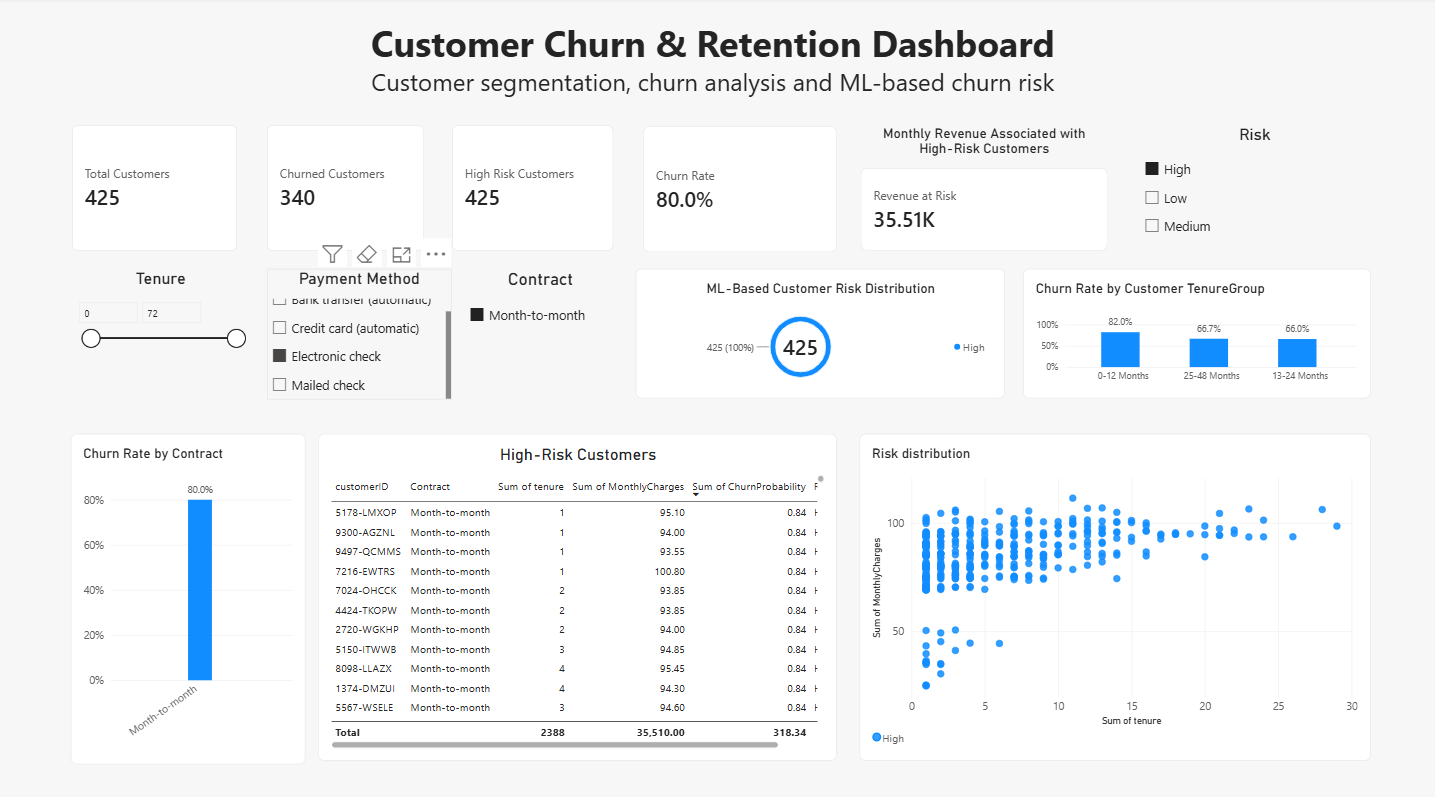

The dashboard page shown, as its layout file describes it:
{"tool":"powerbi","page":{"name":"Customer Churn Dashboard","canvas":[1920,1080],"ordinal":0},"visuals":[{"type":"textbox","box":[10,0,280,280],"z":0},{"type":"textbox","box":[10.9,30.8,1885.7,124.9],"z":1},{"type":"cardVisual","fields":{"Data":["customers.Total Customers"]},"box":[99.5,173.7,220.8,168.3],"z":2},{"type":"cardVisual","fields":{"Data":["customers.Churned Customers"]},"box":[360.1,173.7,209.9,168.3],"z":3},{"type":"cardVisual","fields":{"Data":["customers.High Risk Customers"]},"box":[606.2,173.7,215.3,168.3],"z":4},{"type":"cardVisual","fields":{"Data":["customers.Churn Rate"]},"box":[861.4,175.5,258.8,168.3],"z":5},{"type":"cardVisual","title":"Monthly Revenue Associated with High-Risk Customers","fields":{"Data":["customers.Revenue at Risk"]},"box":[1150.9,173.7,329.4,168.3],"z":6},{"type":"columnChart","title":"Churn Rate by Contract","fields":{"Category":["customers.Contract"],"Y":["customers.Churn Rate"]},"box":[98.8,584.6,312.9,440.5],"z":7},{"type":"columnChart","title":"Churn Rate by Customer TenureGroup","fields":{"Category":["customers.TenureGroup"],"Y":["customers.Churn Rate"]},"box":[1368.1,365.6,463.1,172.9],"z":8},{"type":"donutChart","title":"ML-Based Customer Risk Distribution","fields":{"Category":["customers.RiskLevel"],"Y":["customers.Total Customers"]},"box":[852.4,365.6,491.9,172.9],"z":9},{"type":"slicer","title":"Contract","fields":{"Values":["customers.Contract"]},"box":[622.5,365.6,202.7,173.7],"z":10},{"type":"slicer","title":"Tenure","fields":{"Values":["customers.tenure"]},"box":[101.3,365.6,233.4,173.7],"z":11},{"type":"slicer","title":"Payment Method","fields":{"Values":["customers.PaymentMethod"]},"box":[360.1,365.6,246.1,173.7],"z":12},{"type":"tableEx","title":"High-Risk Customers","fields":{"Values":["customers.customerID","customers.Contract","Sum(customers.tenure)","Sum(customers.MonthlyCharges)","Sum(customers.ChurnProbability)","customers.RiskLevel"]},"box":[428.1,584.6,691.6,436.4],"z":13},{"type":"scatterChart","title":"Risk distribution","fields":{"Category":["customers.customerID"],"Series":["customers.RiskLevel"],"X":["Sum(customers.tenure)"],"Y":["Sum(customers.MonthlyCharges)"]},"box":[1150.6,584.6,681.3,436.4],"z":14},{"type":"slicer","title":"Risk","fields":{"Values":["customers.RiskLevel"]},"box":[1523.7,173.7,307.6,168.3],"z":15}]}

Visuals, with their boxes in screenshot pixels (x1, y1, x2, y2), scaled from the page's 1920x1080 canvas onto the 1435x797 screenshot:
textbox: {"x1": 7, "y1": 0, "x2": 217, "y2": 207}
textbox: {"x1": 8, "y1": 23, "x2": 1418, "y2": 115}
cardVisual - customers.Total Customers: {"x1": 74, "y1": 128, "x2": 239, "y2": 252}
cardVisual - customers.Churned Customers: {"x1": 269, "y1": 128, "x2": 426, "y2": 252}
cardVisual - customers.High Risk Customers: {"x1": 453, "y1": 128, "x2": 614, "y2": 252}
cardVisual - customers.Churn Rate: {"x1": 644, "y1": 130, "x2": 837, "y2": 254}
"Monthly Revenue Associated with High-Risk Customers" cardVisual: {"x1": 860, "y1": 128, "x2": 1106, "y2": 252}
"Churn Rate by Contract" columnChart: {"x1": 74, "y1": 431, "x2": 308, "y2": 756}
"Churn Rate by Customer TenureGroup" columnChart: {"x1": 1023, "y1": 270, "x2": 1369, "y2": 397}
"ML-Based Customer Risk Distribution" donutChart: {"x1": 637, "y1": 270, "x2": 1005, "y2": 397}
"Contract" slicer: {"x1": 465, "y1": 270, "x2": 617, "y2": 398}
"Tenure" slicer: {"x1": 76, "y1": 270, "x2": 250, "y2": 398}
"Payment Method" slicer: {"x1": 269, "y1": 270, "x2": 453, "y2": 398}
"High-Risk Customers" tableEx: {"x1": 320, "y1": 431, "x2": 837, "y2": 753}
"Risk distribution" scatterChart: {"x1": 860, "y1": 431, "x2": 1369, "y2": 753}
"Risk" slicer: {"x1": 1139, "y1": 128, "x2": 1369, "y2": 252}
